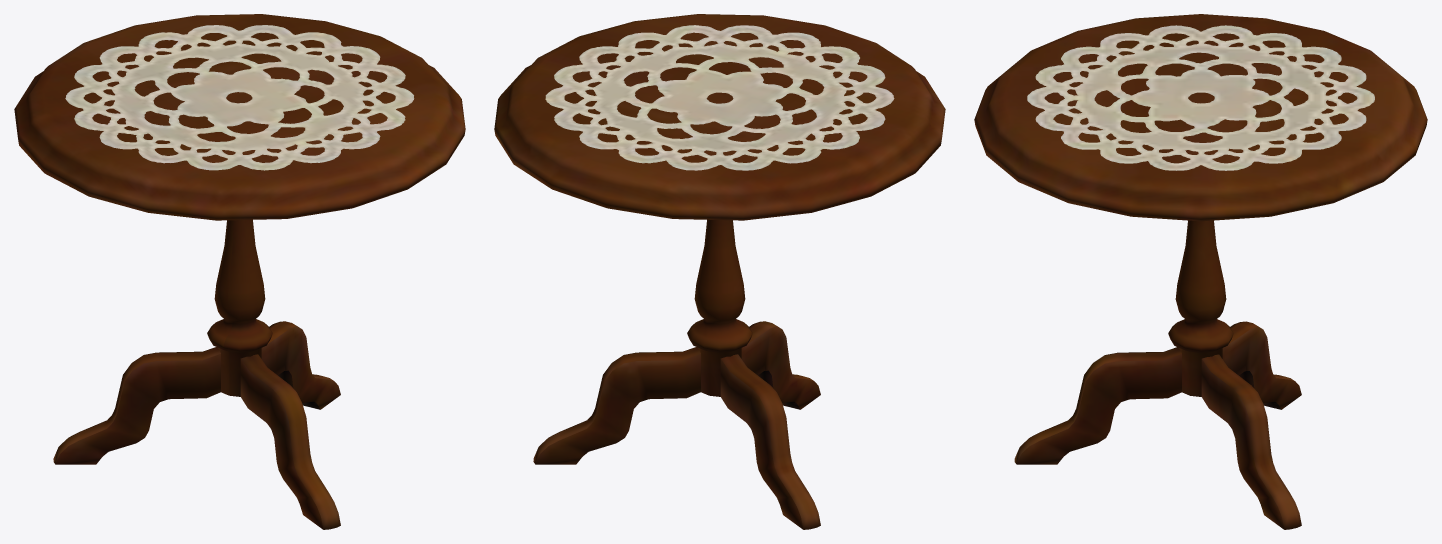
3 renders of one model, left to right at view 1: azimuth 30°, elevation 25°; view 2: azimuth 150°, elevation 25°; view 3: azimuth 270°, elevation 25°, orthographic.
Bounding box in the file's own units: 9.09 × 8.01 × 9.09.
1 material, 1 textured.
